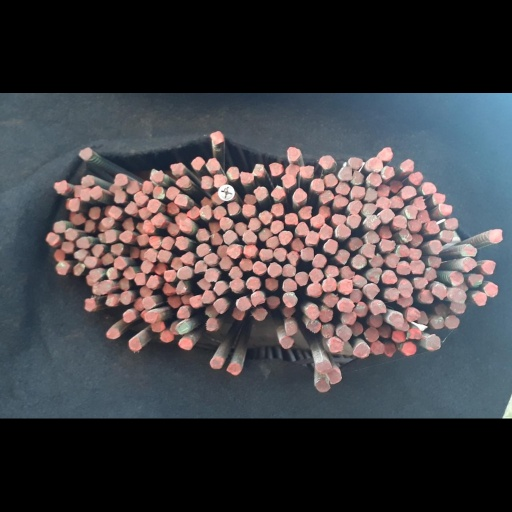dipstick: (397, 279, 413, 298), (377, 208, 395, 224), (425, 334, 441, 351), (488, 228, 504, 244), (377, 223, 393, 239), (362, 201, 379, 216), (363, 215, 380, 230), (347, 212, 362, 229), (349, 320, 364, 337), (353, 343, 370, 358), (317, 155, 334, 170), (267, 262, 282, 279), (132, 190, 149, 205), (279, 175, 297, 189), (481, 259, 496, 275), (431, 284, 446, 300), (385, 253, 401, 268), (370, 299, 386, 314), (352, 253, 367, 269), (328, 337, 344, 352), (336, 326, 352, 341), (339, 298, 355, 313), (319, 188, 334, 204), (310, 213, 326, 228), (323, 238, 338, 254), (311, 253, 327, 268), (306, 282, 322, 297), (291, 187, 307, 202), (226, 243, 241, 259), (449, 289, 466, 303), (400, 341, 417, 355), (315, 359, 332, 373), (286, 250, 300, 267), (466, 273, 484, 286), (383, 340, 396, 358), (483, 282, 498, 297), (428, 239, 443, 254), (395, 260, 410, 275), (381, 269, 396, 284), (370, 340, 385, 355), (338, 279, 353, 294), (337, 166, 352, 181), (322, 292, 337, 307), (327, 368, 342, 383), (315, 378, 330, 393), (278, 231, 293, 246), (268, 162, 283, 177), (250, 291, 265, 306), (205, 157, 220, 172), (213, 173, 228, 188), (463, 257, 477, 273), (443, 315, 459, 329), (400, 185, 416, 199), (418, 290, 434, 304), (389, 311, 403, 327), (352, 273, 368, 287), (354, 301, 368, 317), (319, 224, 333, 240), (279, 335, 295, 349), (252, 307, 268, 321), (156, 249, 172, 263), (128, 336, 142, 352), (449, 301, 466, 314), (397, 295, 414, 308), (378, 238, 395, 251), (411, 276, 429, 288), (444, 217, 459, 231), (408, 171, 423, 185), (409, 260, 424, 274), (392, 215, 407, 229), (378, 147, 393, 161), (368, 253, 383, 267), (363, 327, 378, 341), (367, 268, 382, 282), (349, 170, 364, 184), (350, 185, 365, 199), (340, 265, 355, 279), (335, 249, 349, 264), (336, 223, 351, 237), (322, 277, 336, 292), (307, 320, 322, 334), (282, 278, 297, 292), (266, 294, 280, 309), (284, 321, 298, 336), (252, 261, 267, 275), (242, 244, 257, 258), (242, 229, 257, 243), (257, 210, 271, 225), (227, 202, 241, 217), (210, 130, 224, 145), (229, 278, 244, 292), (213, 299, 227, 314), (204, 268, 219, 282), (174, 235, 188, 250), (176, 266, 191, 280), (150, 213, 164, 228), (46, 231, 60, 246), (461, 244, 477, 257), (421, 182, 437, 195), (388, 196, 404, 209), (347, 157, 363, 170), (334, 181, 350, 194), (270, 186, 286, 199), (226, 363, 242, 376), (174, 279, 187, 295), (124, 200, 136, 217), (473, 291, 487, 305), (400, 158, 414, 172), (409, 233, 423, 247), (406, 308, 420, 322), (394, 243, 408, 257), (380, 165, 394, 179), (369, 158, 383, 172), (376, 183, 390, 197), (364, 187, 378, 201), (362, 243, 376, 257), (369, 312, 383, 326), (348, 200, 362, 214), (349, 237, 363, 251), (349, 288, 363, 302), (287, 147, 301, 161), (265, 235, 279, 249), (253, 186, 267, 200), (223, 230, 237, 244), (191, 156, 205, 170), (165, 185, 179, 199), (161, 283, 175, 297), (142, 220, 156, 234), (148, 235, 162, 249), (146, 275, 160, 289), (125, 180, 139, 194), (108, 205, 122, 219), (55, 261, 69, 275), (72, 262, 86, 276), (449, 272, 464, 285), (406, 219, 421, 232), (405, 205, 418, 220), (397, 229, 412, 242), (385, 287, 400, 300), (391, 330, 406, 343), (366, 284, 379, 299), (324, 173, 337, 188), (324, 264, 339, 277), (300, 247, 315, 260), (305, 230, 318, 245), (299, 205, 312, 220), (291, 237, 304, 252), (282, 293, 297, 306), (245, 277, 260, 290), (241, 204, 256, 217), (180, 251, 195, 264), (178, 338, 193, 351), (147, 199, 162, 212), (142, 296, 157, 309), (122, 309, 137, 322), (97, 280, 112, 293), (53, 180, 68, 193), (375, 196, 391, 208), (412, 196, 426, 209), (426, 220, 439, 234), (430, 316, 444, 329), (368, 172, 381, 186), (366, 230, 379, 244), (378, 324, 391, 338), (305, 305, 319, 318), (309, 269, 323, 282), (300, 164, 314, 177), (295, 222, 308, 236), (284, 212, 298, 225), (294, 272, 308, 285), (270, 203, 284, 216), (270, 220, 283, 234), (252, 163, 265, 177), (211, 191, 224, 205), (219, 217, 233, 230), (238, 258, 252, 271), (237, 297, 250, 311), (205, 317, 218, 331), (219, 256, 232, 270), (199, 205, 212, 219), (175, 175, 189, 188), (195, 227, 208, 241), (166, 201, 180, 214), (195, 243, 209, 256), (194, 260, 207, 274), (170, 256, 183, 270), (152, 185, 165, 199), (136, 233, 149, 247), (140, 260, 153, 274), (113, 256, 127, 269), (89, 185, 102, 199), (103, 229, 117, 242), (80, 175, 94, 188), (79, 147, 93, 160), (83, 298, 96, 312), (439, 230, 454, 242), (406, 328, 421, 340), (341, 312, 356, 324), (263, 278, 278, 290), (227, 165, 239, 180), (209, 357, 224, 369), (203, 253, 218, 265), (173, 194, 188, 206), (180, 218, 192, 233), (159, 330, 174, 342), (166, 296, 181, 308), (137, 207, 152, 219), (106, 328, 121, 340), (110, 243, 125, 255), (437, 204, 453, 215), (68, 213, 84, 224), (321, 324, 334, 337), (311, 178, 324, 191), (201, 290, 214, 303), (187, 205, 200, 218), (189, 295, 202, 308), (161, 237, 174, 250), (122, 266, 135, 279), (121, 217, 134, 230), (91, 244, 104, 257), (424, 267, 436, 281), (416, 210, 430, 222), (408, 247, 422, 259), (417, 310, 429, 324), (331, 213, 345, 225), (274, 247, 286, 261), (247, 218, 261, 230), (243, 193, 257, 205), (213, 283, 227, 295), (170, 162, 184, 174), (167, 222, 179, 236), (163, 270, 177, 282), (133, 297, 145, 311), (128, 246, 140, 260), (114, 173, 128, 185), (113, 191, 127, 203), (101, 252, 113, 266), (88, 207, 102, 219), (79, 187, 91, 201), (63, 228, 77, 240), (76, 237, 90, 249), (426, 256, 441, 267), (432, 193, 445, 205), (335, 194, 348, 206), (320, 308, 332, 321), (282, 305, 295, 317), (231, 308, 244, 320), (197, 277, 210, 289), (177, 306, 190, 318), (176, 322, 189, 334), (141, 180, 153, 193), (144, 249, 157, 261), (133, 272, 145, 285), (119, 291, 131, 304), (68, 198, 80, 211), (62, 241, 75, 253), (53, 248, 66, 260), (83, 256, 96, 268), (285, 164, 299, 175), (258, 248, 272, 259), (212, 207, 226, 218), (228, 267, 242, 278), (210, 232, 221, 246), (151, 322, 166, 332), (89, 269, 104, 279), (390, 180, 402, 192), (234, 222, 246, 234), (181, 292, 193, 304), (152, 170, 164, 182), (106, 294, 118, 306), (455, 281, 468, 292), (240, 171, 253, 182), (204, 306, 217, 317), (144, 311, 157, 322), (119, 231, 132, 242), (84, 220, 95, 233), (53, 221, 66, 232), (74, 248, 87, 259), (139, 286, 153, 296), (101, 218, 115, 228), (435, 304, 447, 315), (201, 176, 212, 188), (175, 212, 186, 224), (118, 278, 129, 290), (107, 267, 118, 279), (86, 273, 97, 285), (396, 321, 409, 331), (169, 320, 178, 334), (217, 245, 228, 256), (155, 263, 166, 274), (224, 190, 236, 200), (209, 220, 219, 232), (92, 281, 100, 296), (319, 206, 330, 216), (108, 183, 121, 191), (73, 184, 81, 197), (136, 222, 144, 234), (201, 197, 212, 205), (104, 205, 112, 216), (98, 222, 106, 231)
